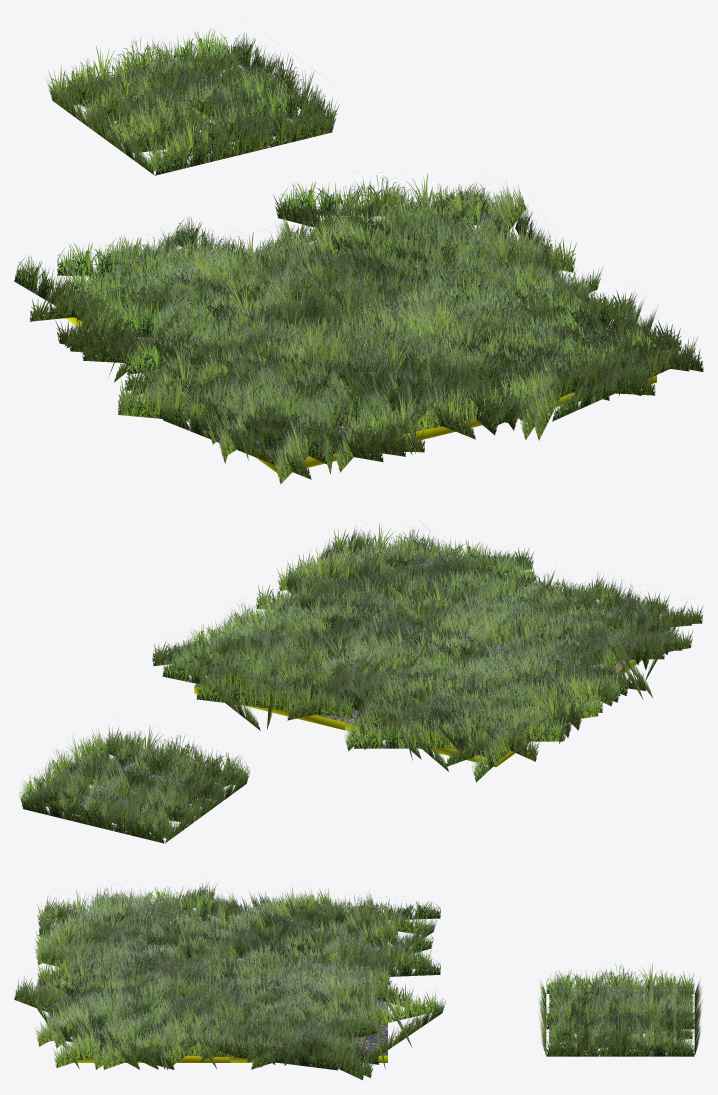
3 views of the same model, one above another, from view 1: azimuth 30°, elevation 25°; view 2: azimuth 150°, elevation 25°; view 3: azimuth 270°, elevation 25° (orthographic). The views are drawn at different scales.
Parts seen in each view (by area): view 1: Листва - Листья Дерева Мелкие, Краска - Кадмий Желтый; view 2: Листва - Листья Дерева Мелкие, Краска - Кадмий Желтый, Трава - Зеленая; view 3: Листва - Листья Дерева Мелкие, Трава - Зеленая, Краска - Кадмий Желтый.
Boxes of the visible parts, box(x1,y1,x2,y2) form: Листва - Листья Дерева Мелкие: box(14, 28, 703, 484); Краска - Кадмий Желтый: box(65, 317, 656, 473); Листва - Листья Дерева Мелкие: box(19, 523, 702, 843); Краска - Кадмий Желтый: box(194, 635, 666, 766); Трава - Зеленая: box(194, 578, 669, 752); Листва - Листья Дерева Мелкие: box(14, 881, 702, 1080); Трава - Зеленая: box(72, 922, 387, 1055); Краска - Кадмий Желтый: box(73, 1055, 387, 1062).
Size of the model in its own units: 2.74 by 0.2451 by 4.37.
3 materials, 2 textured.
